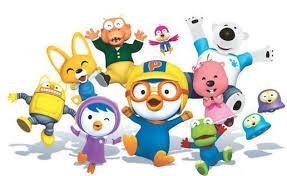Pororo: (118, 60, 192, 166)
